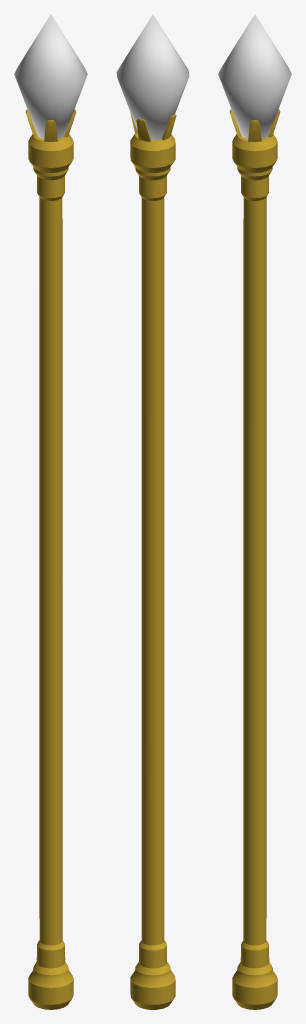
The model's file is MB Staff.fbx.
3 views of the same model, side by side, from view 1: azimuth 90°, elevation 25°; view 2: azimuth 150°, elevation 25°; view 3: azimuth 270°, elevation 25° (orthographic).
Visible parts, largest first — view 1: staff_model; view 2: staff_model; view 3: staff_model.
Part boxes in pixels (x1=…): staff_model: x1=14, y1=14, x2=87, y2=1009; staff_model: x1=116, y1=14, x2=189, y2=1009; staff_model: x1=218, y1=14, x2=291, y2=1009.
Size of the model in its own units: 0.1307 by 1.94 by 0.1307.
